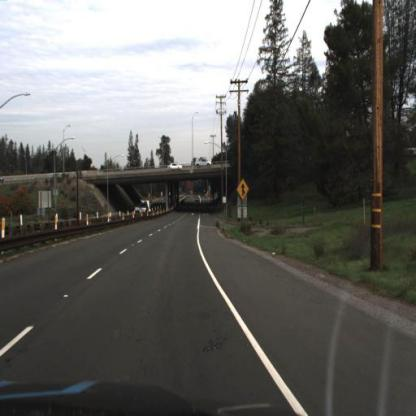car: (51, 170, 69, 184), (167, 161, 185, 174), (136, 199, 150, 215), (197, 159, 213, 169)
